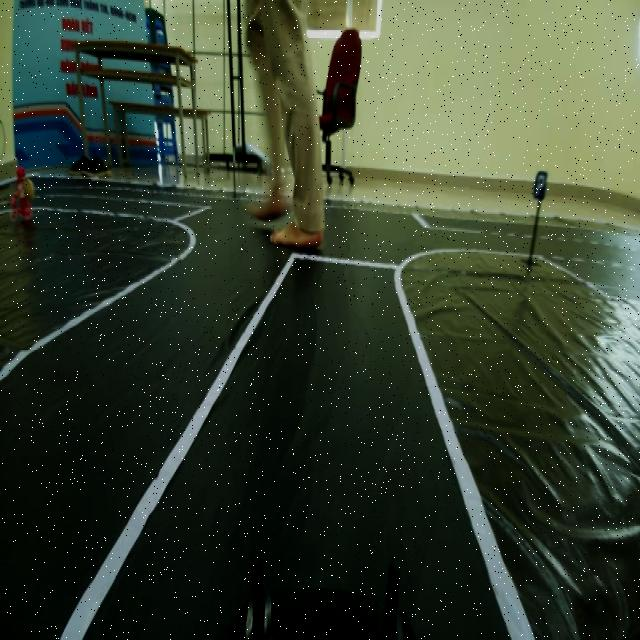parking: (526, 164, 550, 200)
